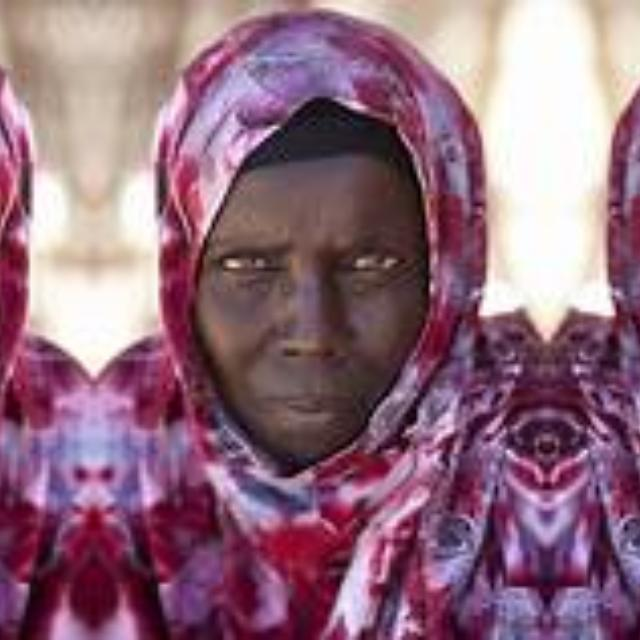person: (121, 1, 508, 632), (0, 0, 64, 631), (584, 0, 640, 631)
